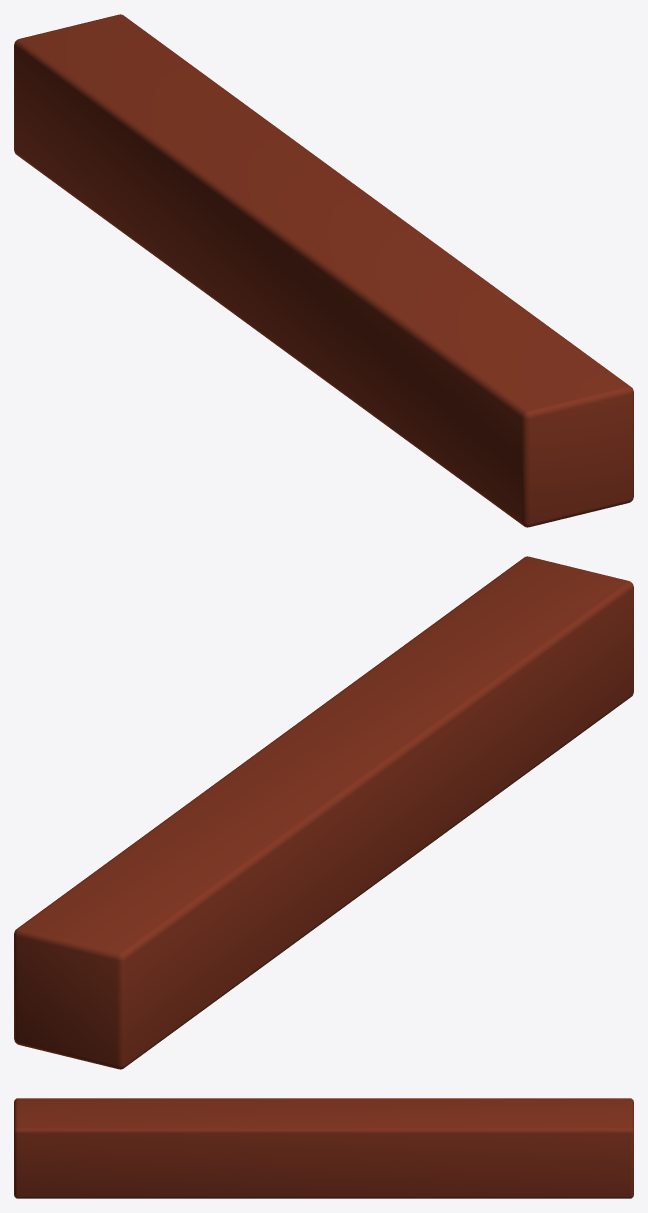
The model's file is Cuis_Brown.fbx.
The picture shows the model from 3 angles, top to bottom: view 1: azimuth 30°, elevation 25°; view 2: azimuth 150°, elevation 25°; view 3: azimuth 270°, elevation 25°; orthographic projection. The views are drawn at different scales.
Visible parts, largest first — view 1: Brown; view 2: Brown; view 3: Brown.
Boxes of the visible parts, x1=… form: Brown: x1=14, y1=14, x2=633, y2=527; Brown: x1=14, y1=556, x2=633, y2=1069; Brown: x1=14, y1=1098, x2=633, y2=1198.
Bounding box in the file's own units: 1.35 × 10.77 × 1.35.
